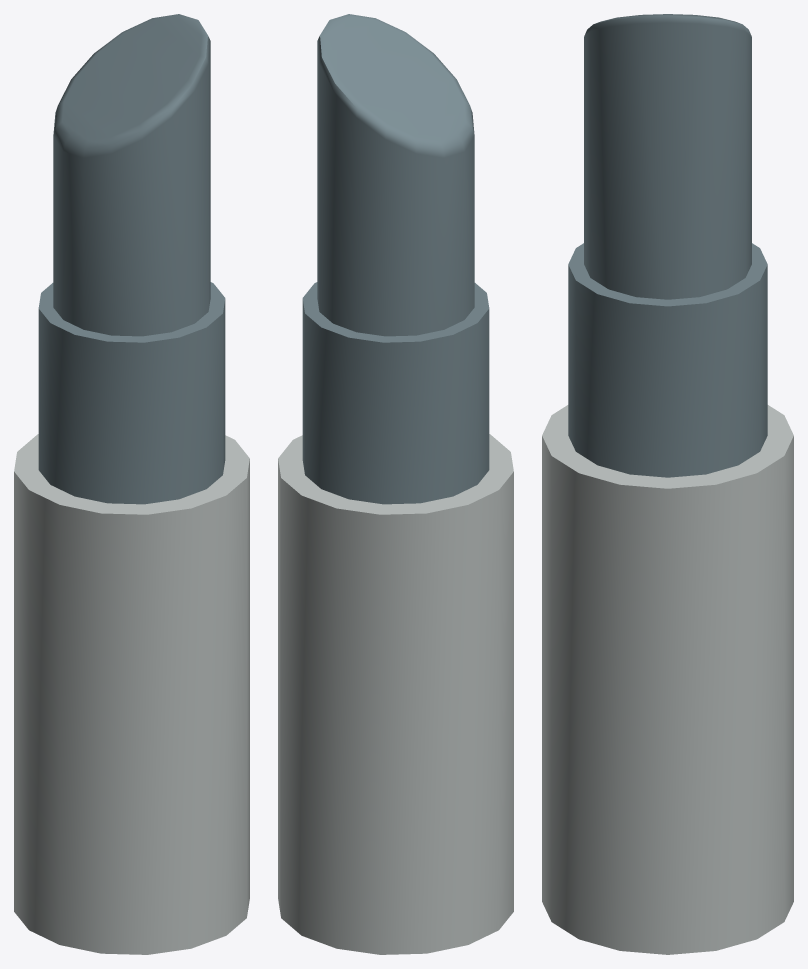
Rendered from lipstick.glb.
3 views of the same model, side by side, from view 1: azimuth 30°, elevation 25°; view 2: azimuth 150°, elevation 25°; view 3: azimuth 270°, elevation 25° (orthographic). The views are drawn at different scales.
Visible parts, largest first — view 1: tube_base, slanted_lipstick_bullet, metal_collar; view 2: tube_base, slanted_lipstick_bullet, metal_collar; view 3: tube_base, slanted_lipstick_bullet, metal_collar.
Part boxes in pixels (x1,y1,x2,y2): tube_base: (14,434,249,954); slanted_lipstick_bullet: (53,14,210,336); metal_collar: (38,282,225,504); tube_base: (278,434,513,954); slanted_lipstick_bullet: (317,14,474,336); metal_collar: (302,282,489,504); tube_base: (542,405,793,954); slanted_lipstick_bullet: (584,14,751,299); metal_collar: (568,243,767,477).
Size of the model in its own units: 0.024 by 0.0967 by 0.024.
